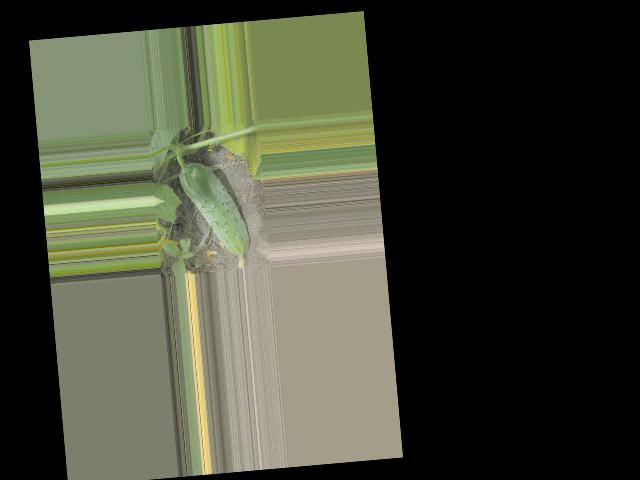cucumber: (178, 158, 252, 274)
